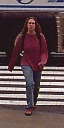person: (14, 18, 45, 109)
